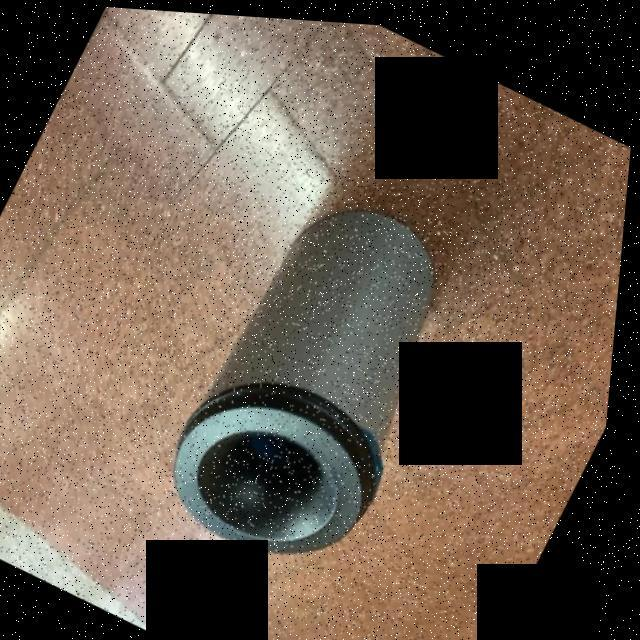bin: (122, 159, 520, 632)
